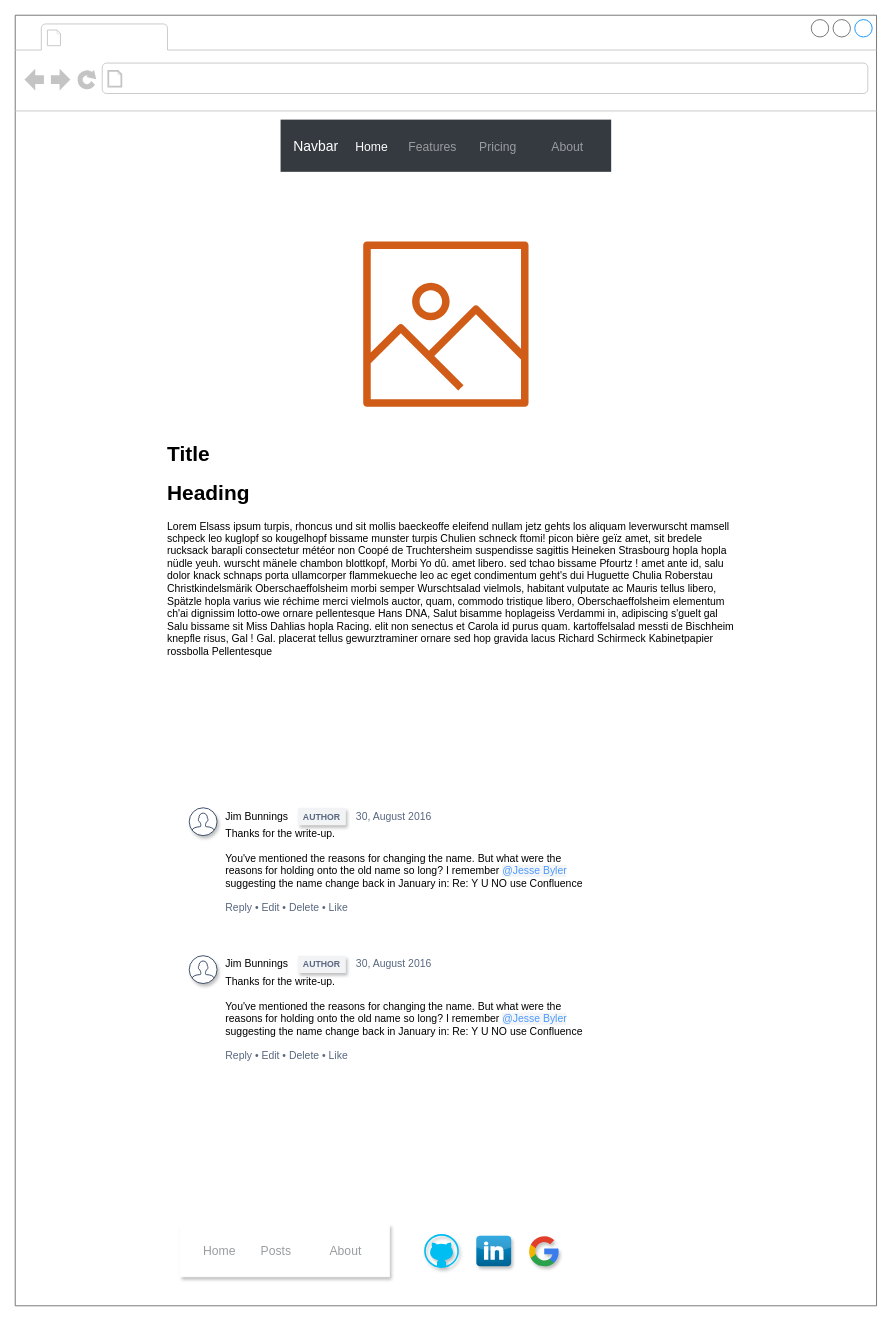
The diagram is 892 pixels wide and 1322 high, and some of its shapes have lost their labels. The shapes that lost their labels are listed below. From the top down, each one's centre as x and y in pixels, then its label:
At (115,36): "Page 1".
At (236,78): "https://www.JgPhil.com".
